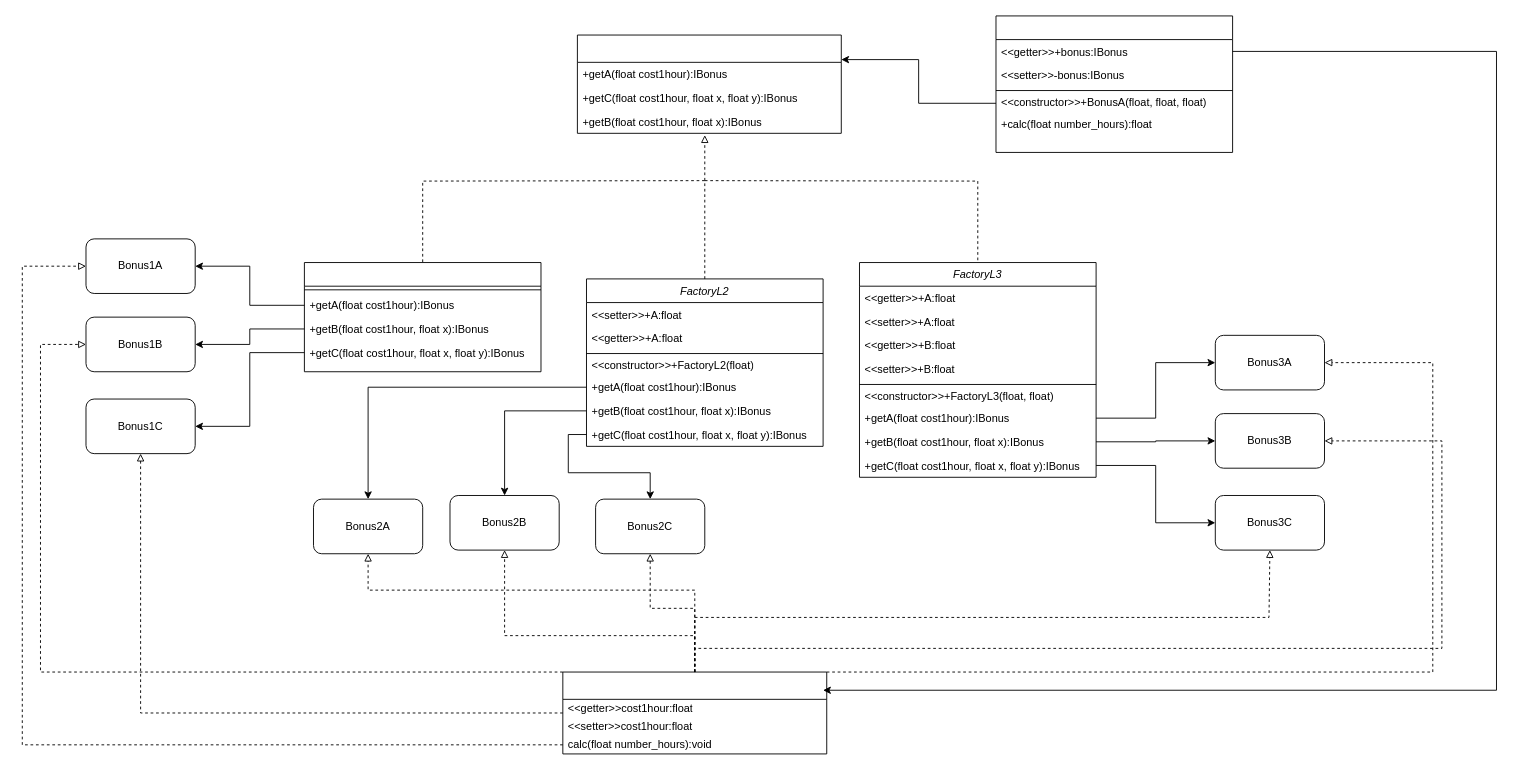
This 1520x770 diagram has some shape labels left out. The shapes that lost their labels are listed below. From the top down, each one's box as (x1, y1, x2, y2) in pixels, then its label:
(576, 34, 841, 133): <<interface>> IFactory
(995, 15, 1233, 152): Employee
(303, 262, 541, 372): FactoryL1
(562, 671, 827, 754): <<interface>> IBonus
